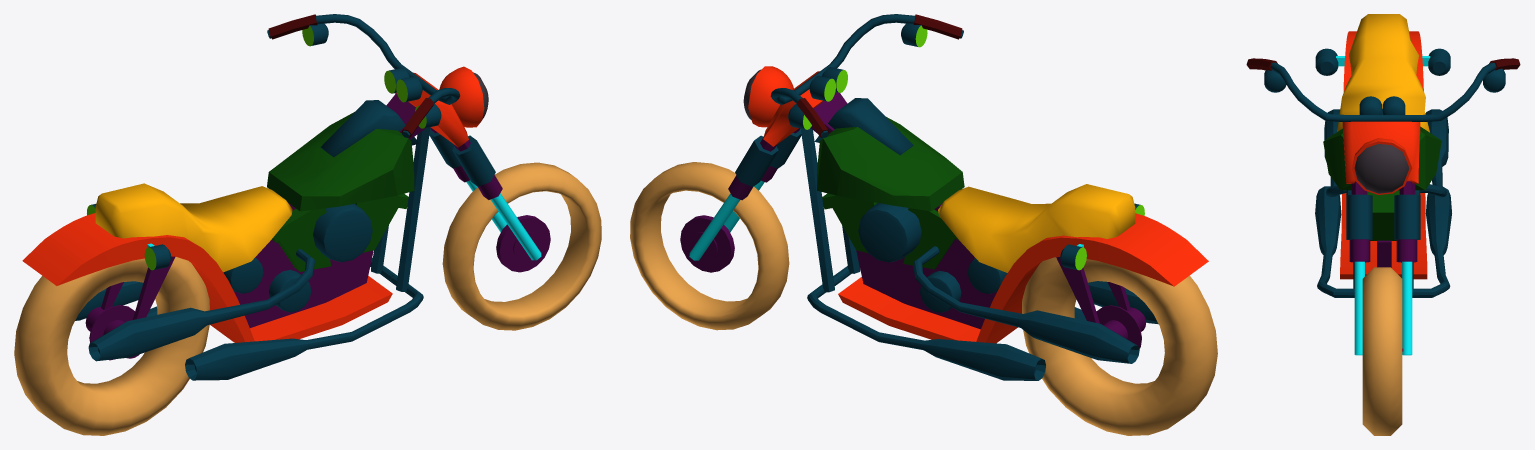
File: Moto-End.FBX
3 views of the same model, side by side, from view 1: azimuth 30°, elevation 25°; view 2: azimuth 150°, elevation 25°; view 3: azimuth 270°, elevation 25° (orthographic). The views are drawn at different scales.
Visible parts, largest first — view 1: Motorbike-Body, Motorbike-Rear-Wheel, Motorbike-Frontal, Motorbike-Frontal-Wheel; view 2: Motorbike-Body, Motorbike-Rear-Wheel, Motorbike-Frontal, Motorbike-Frontal-Wheel; view 3: Motorbike-Body, Motorbike-Frontal, Motorbike-Frontal-Wheel.
Part boxes in pixels (x1,y1,x2,y2): Motorbike-Body: (22, 93, 430, 380); Motorbike-Rear-Wheel: (14, 257, 209, 435); Motorbike-Frontal: (267, 14, 550, 272); Motorbike-Frontal-Wheel: (442, 162, 601, 330); Motorbike-Body: (801, 92, 1208, 380); Motorbike-Rear-Wheel: (1022, 257, 1217, 435); Motorbike-Frontal: (680, 14, 963, 272); Motorbike-Frontal-Wheel: (630, 162, 789, 330); Motorbike-Body: (1315, 14, 1451, 297); Motorbike-Frontal: (1246, 58, 1520, 355); Motorbike-Frontal-Wheel: (1362, 267, 1402, 435).
Bounding box in the file's own units: 2.66 × 1.36 × 1.12.
